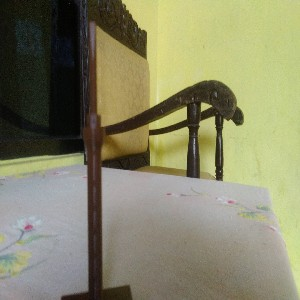obeng: (82, 22, 104, 300)
